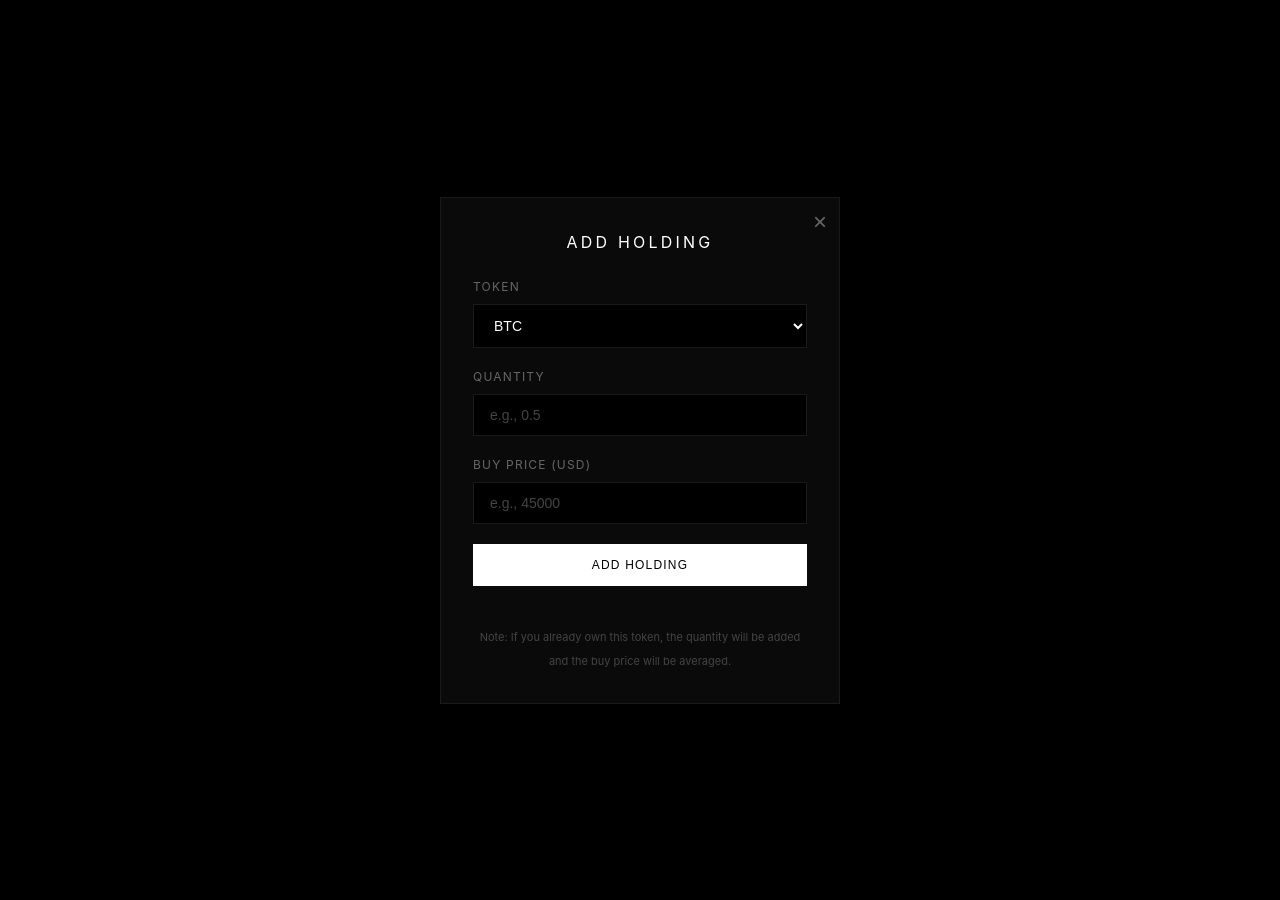
Scenario: AddHoldingModal › shows error for zero quantity
Step 1. Type "0" into the number field labelled "Quantity" → [640, 414], box [473,394,807,436]
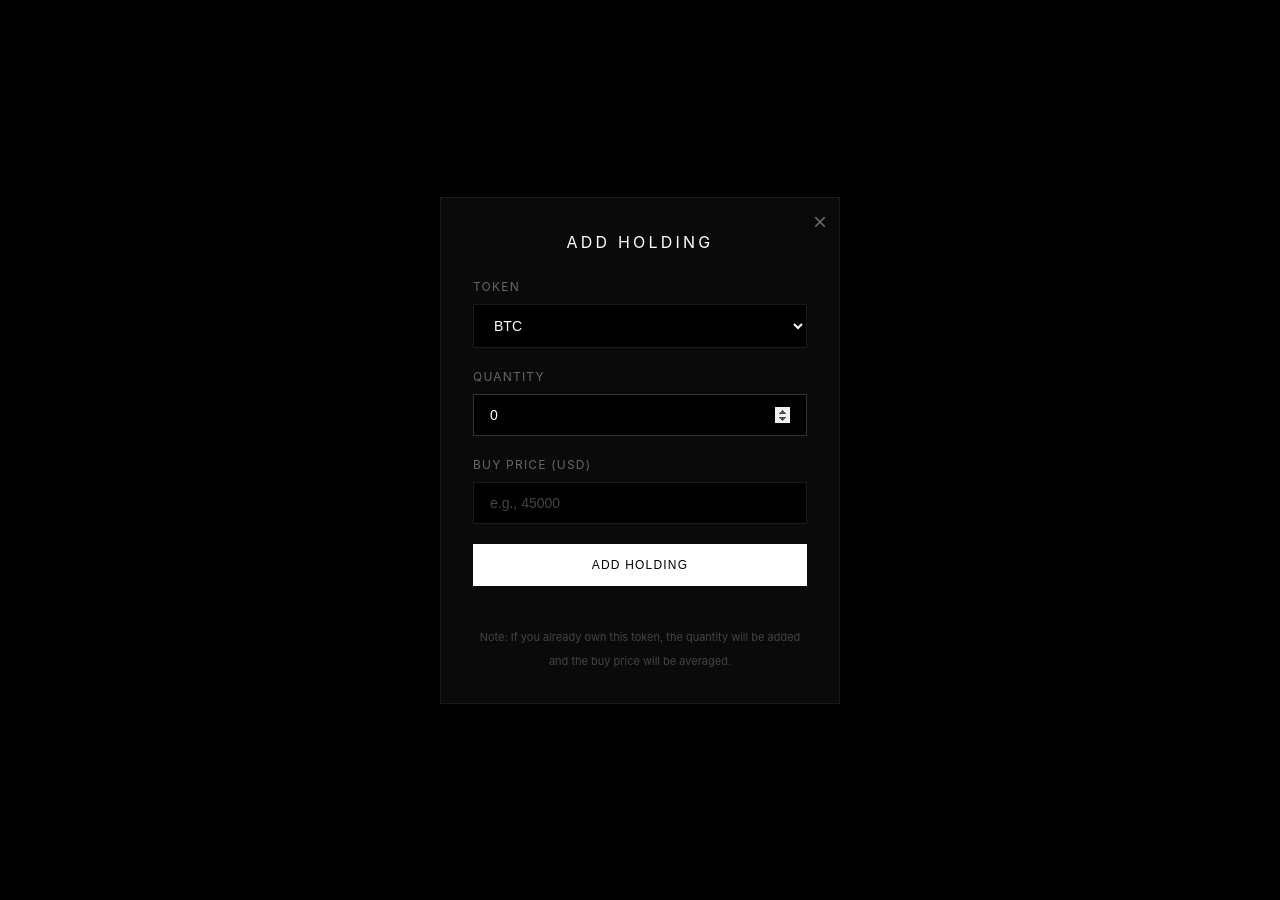
Step 2. Type "40000" into the number field labelled "Buy Price (USD)" → [640, 502], box [473,482,807,524]
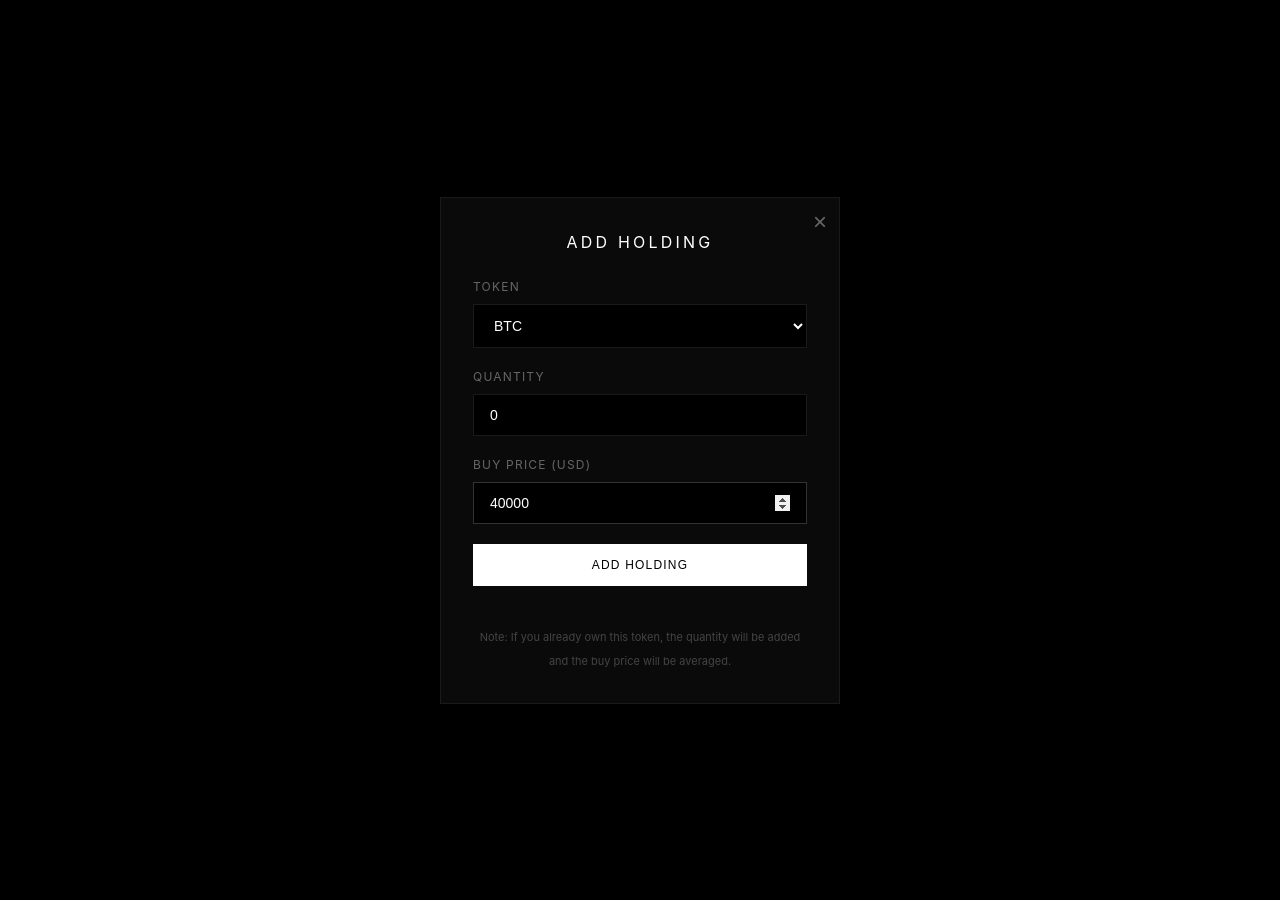
Step 3. Click the button "Add Holding" → [640, 564], box [473,544,807,586]
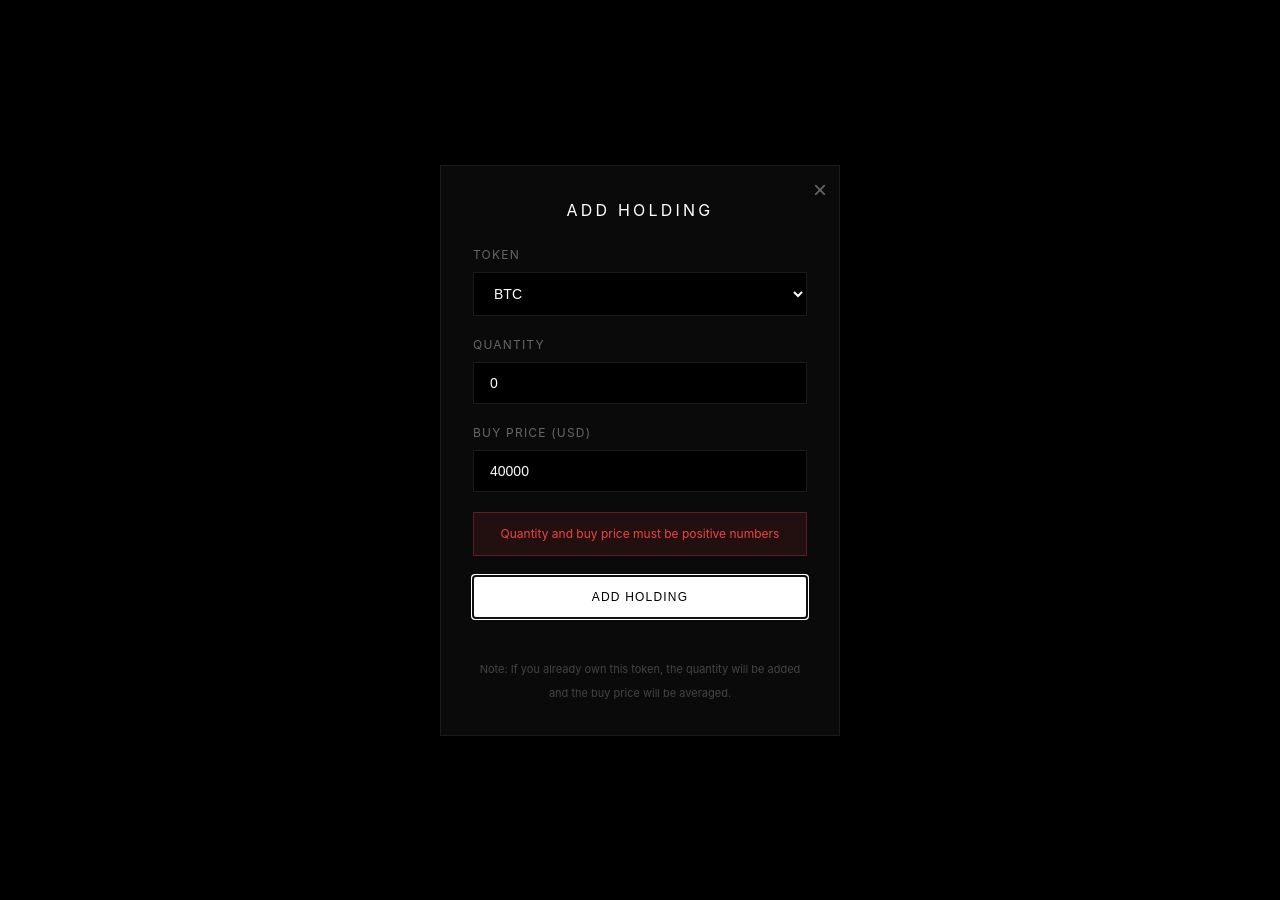
Now the text "Quantity and buy price must be positive numbers" is shown, box [473,512,807,556]
